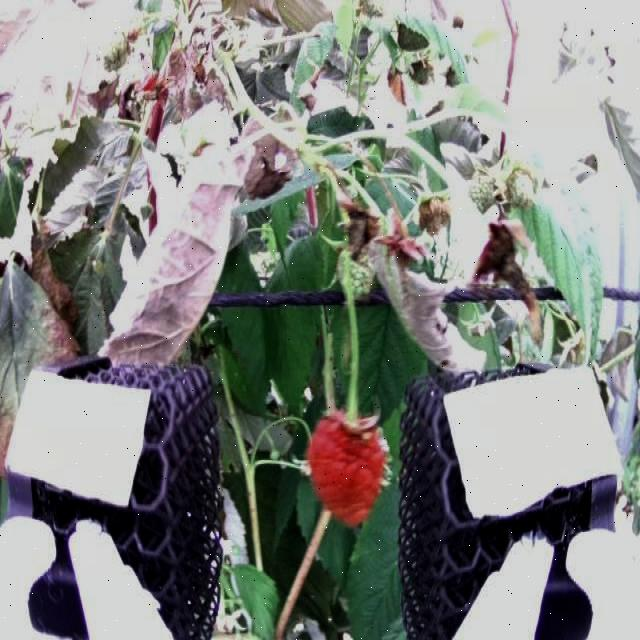Riped berries: (303, 405, 392, 528)
